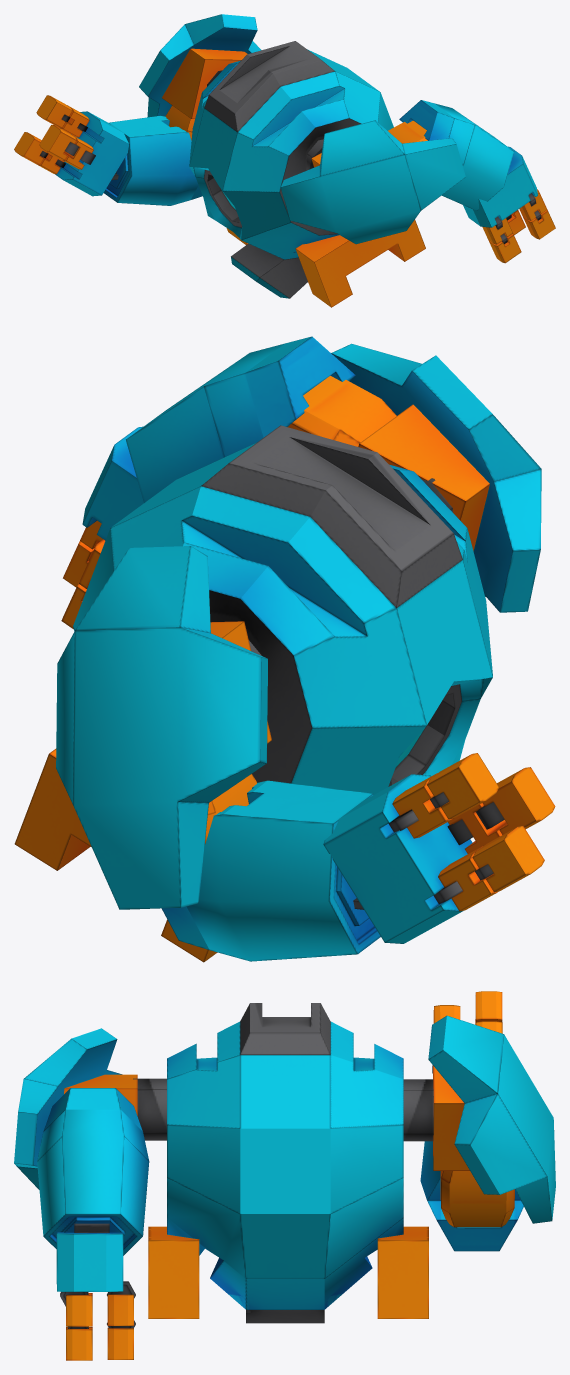
Rendered from Body_Running19.obj.
3 views of the same model, one above another, from view 1: azimuth 30°, elevation 25°; view 2: azimuth 150°, elevation 25°; view 3: azimuth 270°, elevation 25° (orthographic). The views are drawn at different scales.
Parts seen in each view (by area): view 1: Plane001, Object006, Object002, Object004, Object003, Object007, Object008; view 2: Plane001, Object002, Object006, Object004, Object003, Object007, Object008; view 3: Plane001, Object002, Object007, Object008, Object006, Object003, Object001, Object005, Object004.
Boxes of the visible parts, x1,y1,x2,y2 form: Plane001: (189, 41, 425, 307); Object006: (280, 120, 465, 244); Object002: (139, 14, 261, 140); Object004: (14, 95, 128, 196); Object003: (104, 115, 202, 205); Object007: (399, 100, 514, 210); Object008: (463, 146, 555, 263); Plane001: (14, 425, 492, 962); Object002: (56, 546, 271, 909); Object006: (287, 343, 541, 612); Object004: (323, 753, 555, 943); Object003: (161, 780, 380, 961); Object007: (126, 336, 355, 502); Object008: (61, 426, 143, 628); Plane001: (148, 1003, 428, 1323); Object002: (428, 1015, 555, 1227); Object007: (37, 1088, 149, 1255); Object008: (56, 1223, 135, 1360); Object006: (14, 1028, 137, 1189); Object003: (420, 1141, 523, 1251); Object001: (403, 1079, 433, 1141); Object005: (133, 1078, 166, 1140); Object004: (432, 991, 502, 1073).
Bounding box in the file's own units: 202 × 116 × 182.
